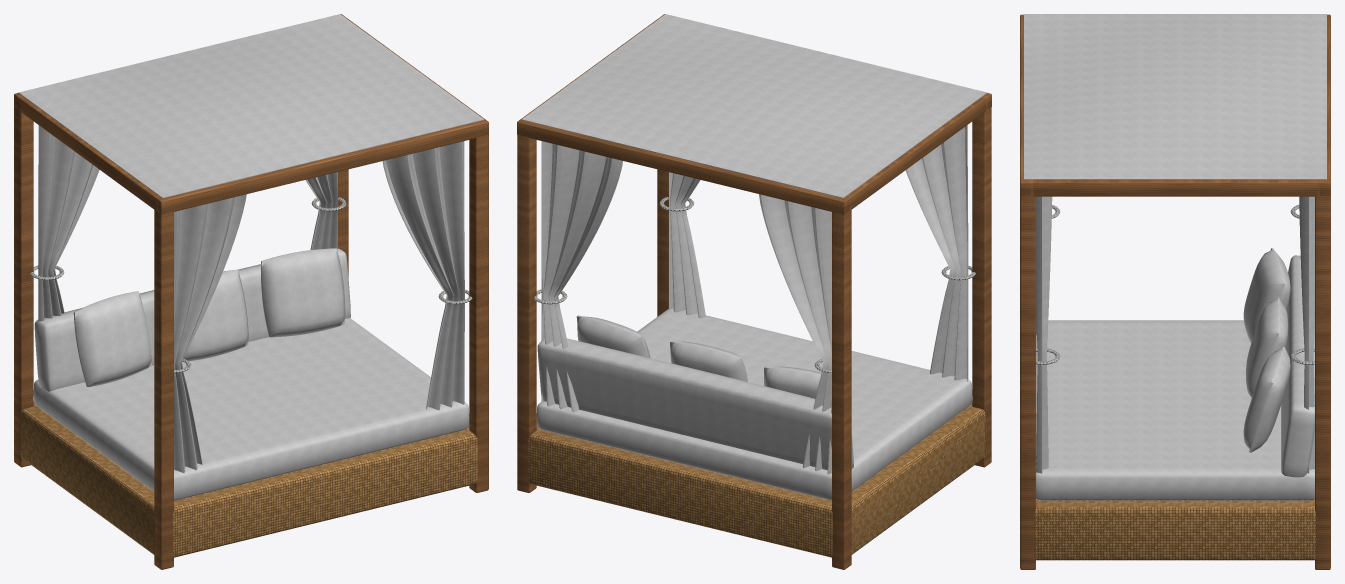
The model's file is canopy_daybed.obj.
3 renders of one model, left to right at view 1: azimuth 30°, elevation 25°; view 2: azimuth 150°, elevation 25°; view 3: azimuth 270°, elevation 25°, orthographic. The views are drawn at different scales.
Size of the model in its own units: 2 by 2.21 by 1.56.
Materials: 6 (6 with a texture image).
